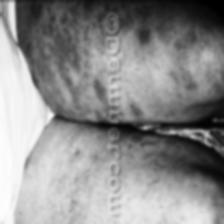Toxin: (38, 0, 106, 114), (169, 21, 224, 99), (124, 0, 160, 65), (127, 96, 144, 123)
